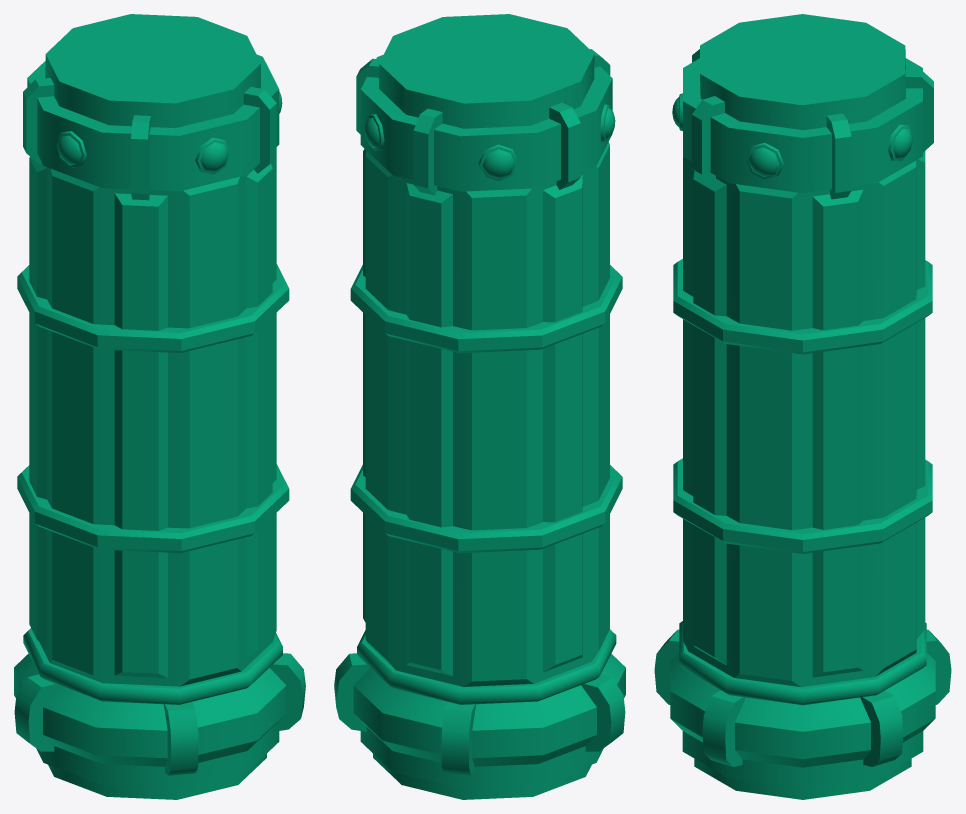
Rendered from SM_Obstacle_IsoCore_Indestructible.fbx.
3 renders of one model, left to right at view 1: azimuth 30°, elevation 25°; view 2: azimuth 150°, elevation 25°; view 3: azimuth 270°, elevation 25°, orthographic.
Parts seen in each view (by area): view 1: SM_Middle_Protector_low, SM_TopFrame_low, SM_BottomFrame_low; view 2: SM_Middle_Protector_low, SM_TopFrame_low, SM_BottomFrame_low; view 3: SM_Middle_Protector_low, SM_TopFrame_low, SM_BottomFrame_low.
Part boxes in pixels (x1,y1,x2,y2): SM_Middle_Protector_low: [17, 157, 289, 686]; SM_TopFrame_low: [23, 14, 282, 200]; SM_BottomFrame_low: [14, 628, 305, 799]; SM_Middle_Protector_low: [350, 142, 622, 686]; SM_TopFrame_low: [356, 14, 615, 195]; SM_BottomFrame_low: [334, 629, 625, 799]; SM_Middle_Protector_low: [673, 151, 932, 686]; SM_TopFrame_low: [672, 14, 933, 199]; SM_BottomFrame_low: [654, 621, 951, 799].
Bounding box in the file's own units: 2.96 × 7.76 × 3.02.
